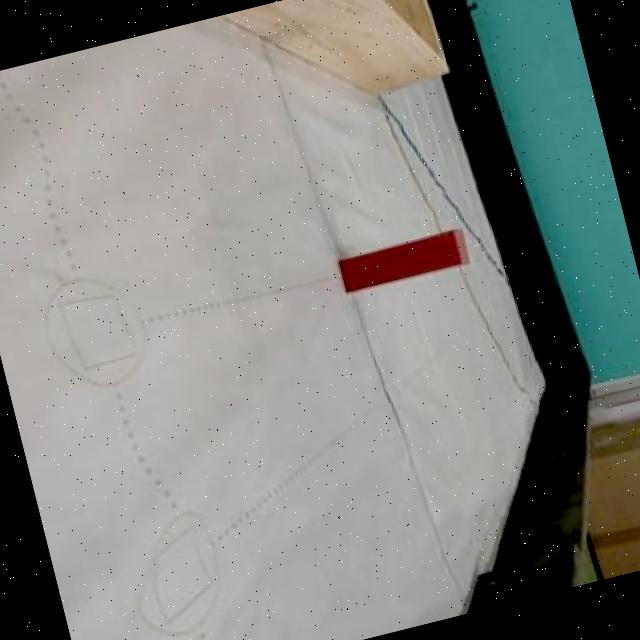redbox: (334, 229, 469, 294)
